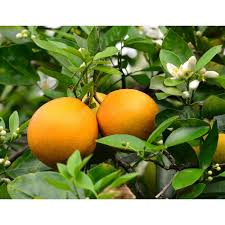orange: (26, 97, 99, 167), (92, 82, 164, 147)
